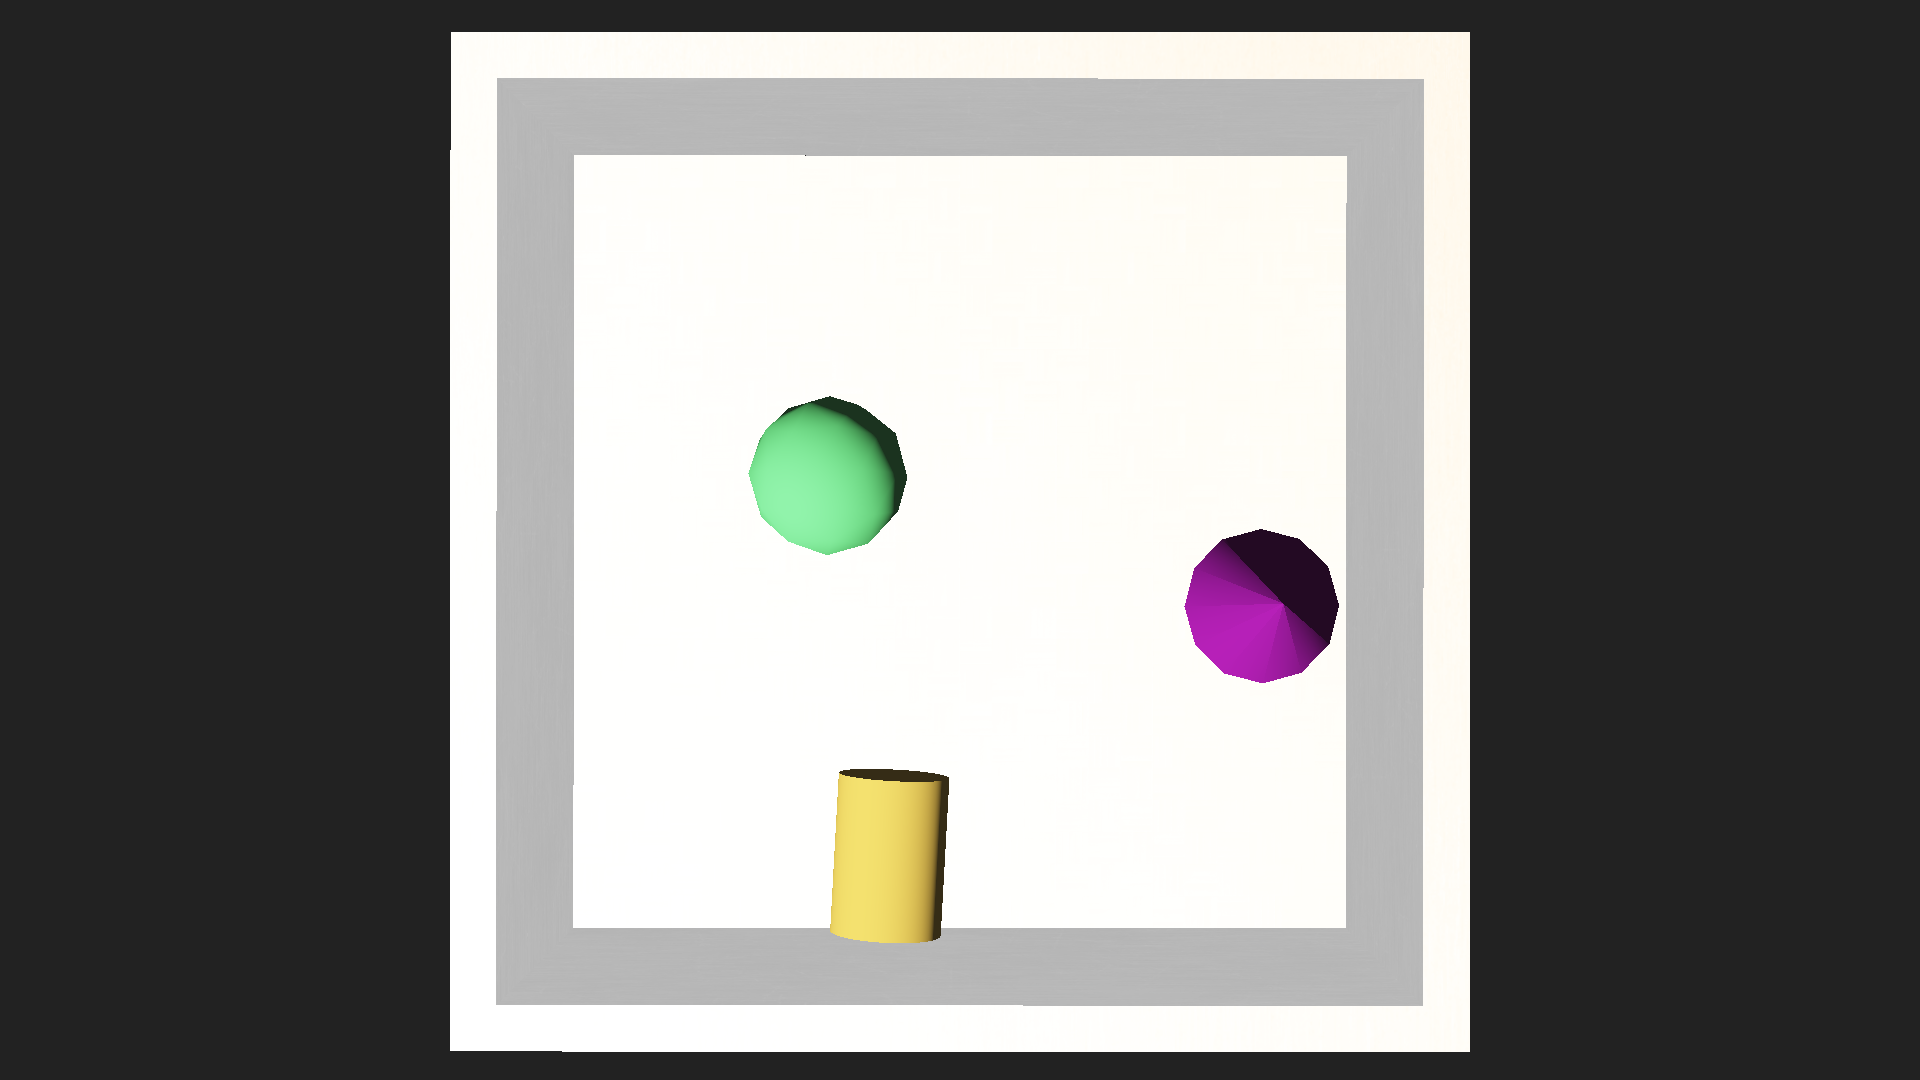cone: (827, 765, 949, 945)
cylinder: (1189, 529, 1358, 686)
sphere: (749, 396, 907, 554)
